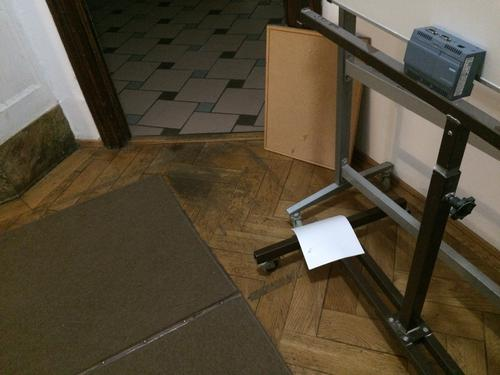iot2000: (403, 25, 487, 103)
